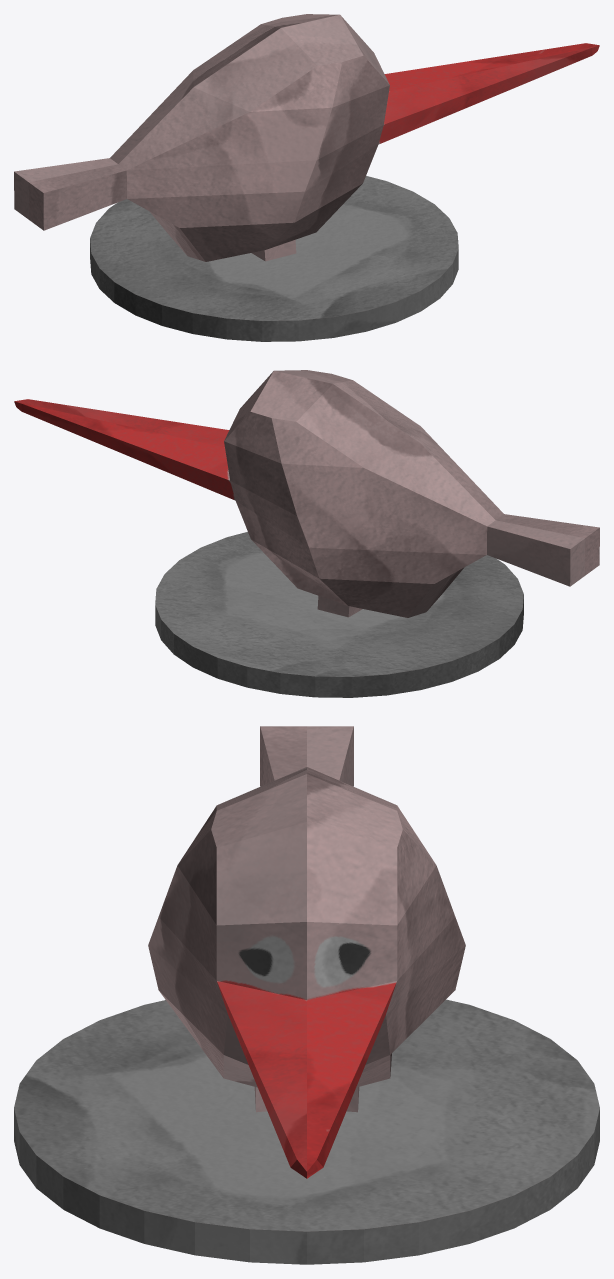
File: Estatua_pajaro1.glb
3 views of the same model, one above another, from view 1: azimuth 30°, elevation 25°; view 2: azimuth 150°, elevation 25°; view 3: azimuth 270°, elevation 25° (orthographic). The views are drawn at different scales.
Parts seen in each view (by area): view 1: F_estatua_pajaro1; view 2: F_estatua_pajaro1; view 3: F_estatua_pajaro1.
Part boxes in pixels (box(x1,y1,x2,y2)): F_estatua_pajaro1: box(14, 14, 599, 341); F_estatua_pajaro1: box(14, 370, 599, 697); F_estatua_pajaro1: box(14, 726, 599, 1264).
Size of the model in its own units: 4.39 by 1.72 by 2.46.
1 material, 1 textured.
